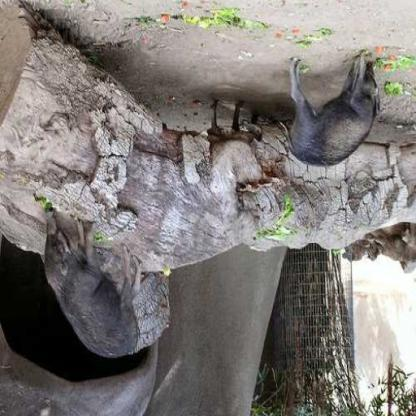boar: (44, 204, 157, 362), (288, 42, 402, 171)
